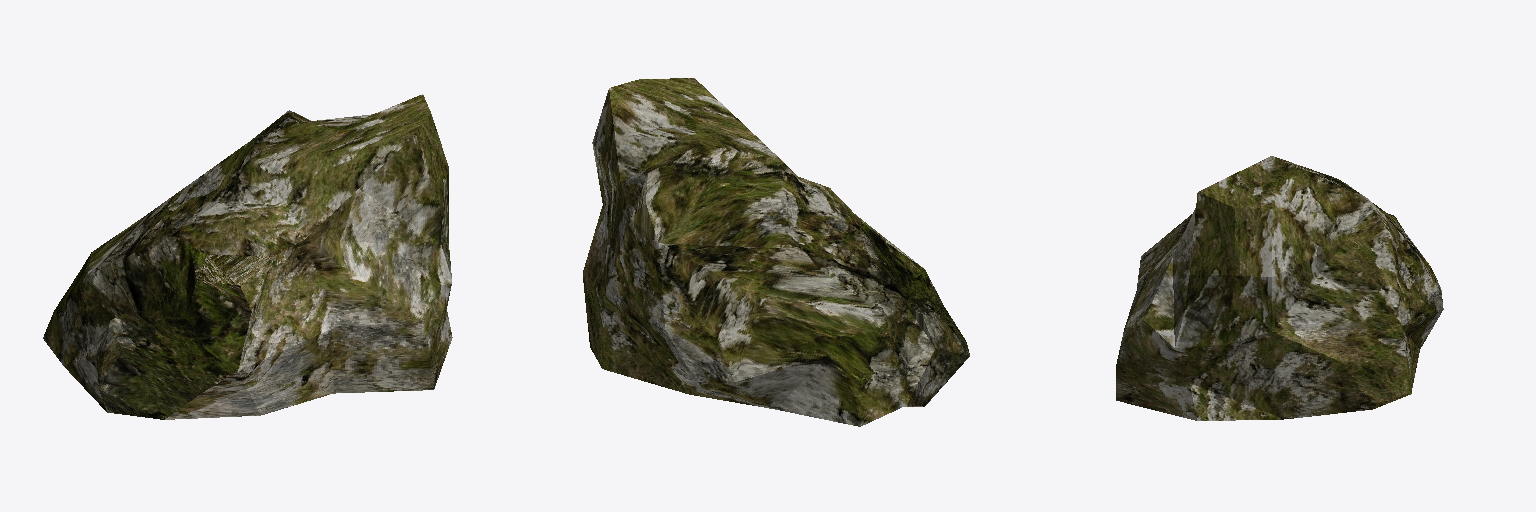
3 renders of one model, left to right at view 1: azimuth 30°, elevation 25°; view 2: azimuth 150°, elevation 25°; view 3: azimuth 270°, elevation 25°, orthographic.
Parts seen in each view (by area): view 1: 立方体.002; view 2: 立方体.002; view 3: 立方体.002.
Boxes of the visible parts, <box> form: 立方体.002: <box>43,94,452,419</box>; 立方体.002: <box>583,78,969,426</box>; 立方体.002: <box>1116,156,1443,420</box>.
Size of the model in its own units: 5.58 by 3.72 by 4.4.
Materials: 1 (1 with a texture image).